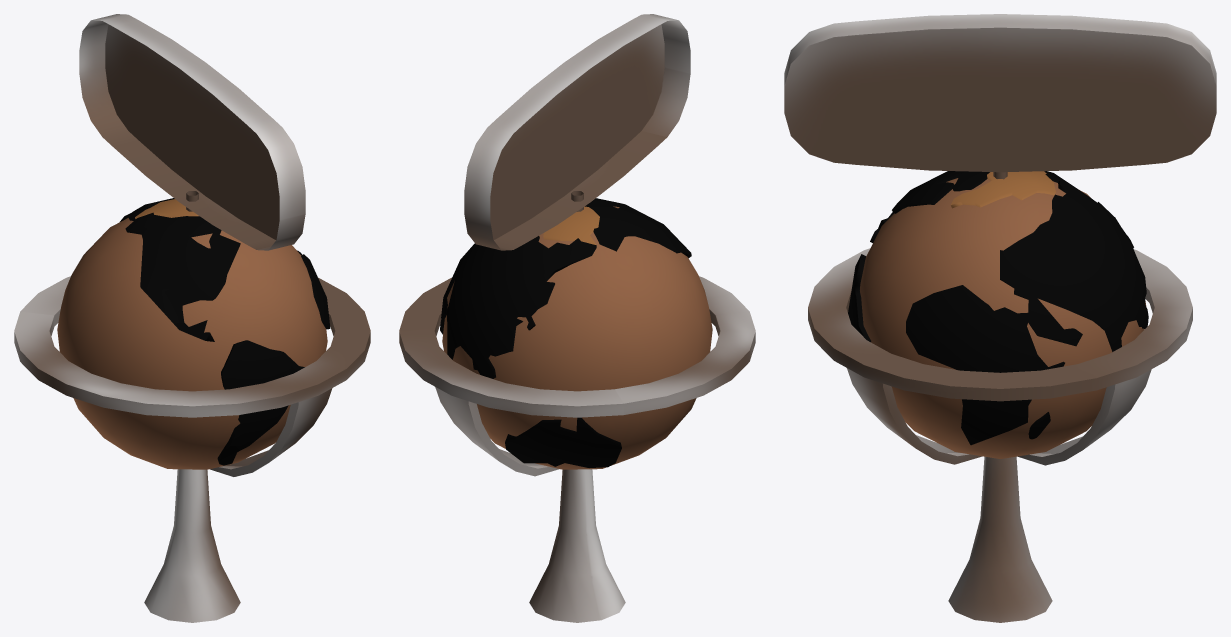
Rendered from billboard_planet.fbx.
3 renders of one model, left to right at view 1: azimuth 30°, elevation 25°; view 2: azimuth 150°, elevation 25°; view 3: azimuth 270°, elevation 25°, orthographic. The views are drawn at different scales.
Parts seen in each view (by area): view 1: Icosphere.001, Cube.001, Circle.005, Cylinder.002, Sphere.006; view 2: Icosphere.001, Cube.001, Circle.005, Cylinder.002, Sphere.004; view 3: Cube.001, Icosphere.001, Circle.005, Cylinder.002, Sphere.004, Sphere.006.
Boxes of the visible parts, x1,y1,x2,y2 form: Icosphere.001: (57, 198, 330, 469); Cube.001: (79, 14, 305, 250); Circle.005: (14, 276, 370, 417); Cylinder.002: (144, 469, 240, 622); Sphere.006: (210, 388, 332, 476); Icosphere.001: (440, 198, 712, 469); Cube.001: (464, 14, 690, 250); Circle.005: (399, 276, 755, 417); Cylinder.002: (529, 469, 625, 622); Sphere.004: (435, 387, 559, 476); Cube.001: (784, 14, 1216, 172); Icosphere.001: (848, 171, 1148, 458); Circle.005: (808, 248, 1192, 401); Cylinder.002: (948, 456, 1052, 622); Sphere.004: (1017, 369, 1151, 465); Sphere.006: (847, 368, 982, 464).
Bounding box in the file's own units: 7.08 × 11.77 × 7.96.
